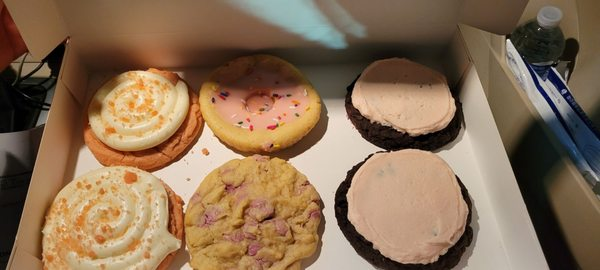burger: (509, 6, 566, 76)
salad: (183, 155, 326, 270), (40, 165, 183, 270), (198, 54, 324, 156), (84, 97, 205, 172), (87, 69, 190, 152)
sushi: (338, 149, 473, 268), (345, 57, 463, 152)
